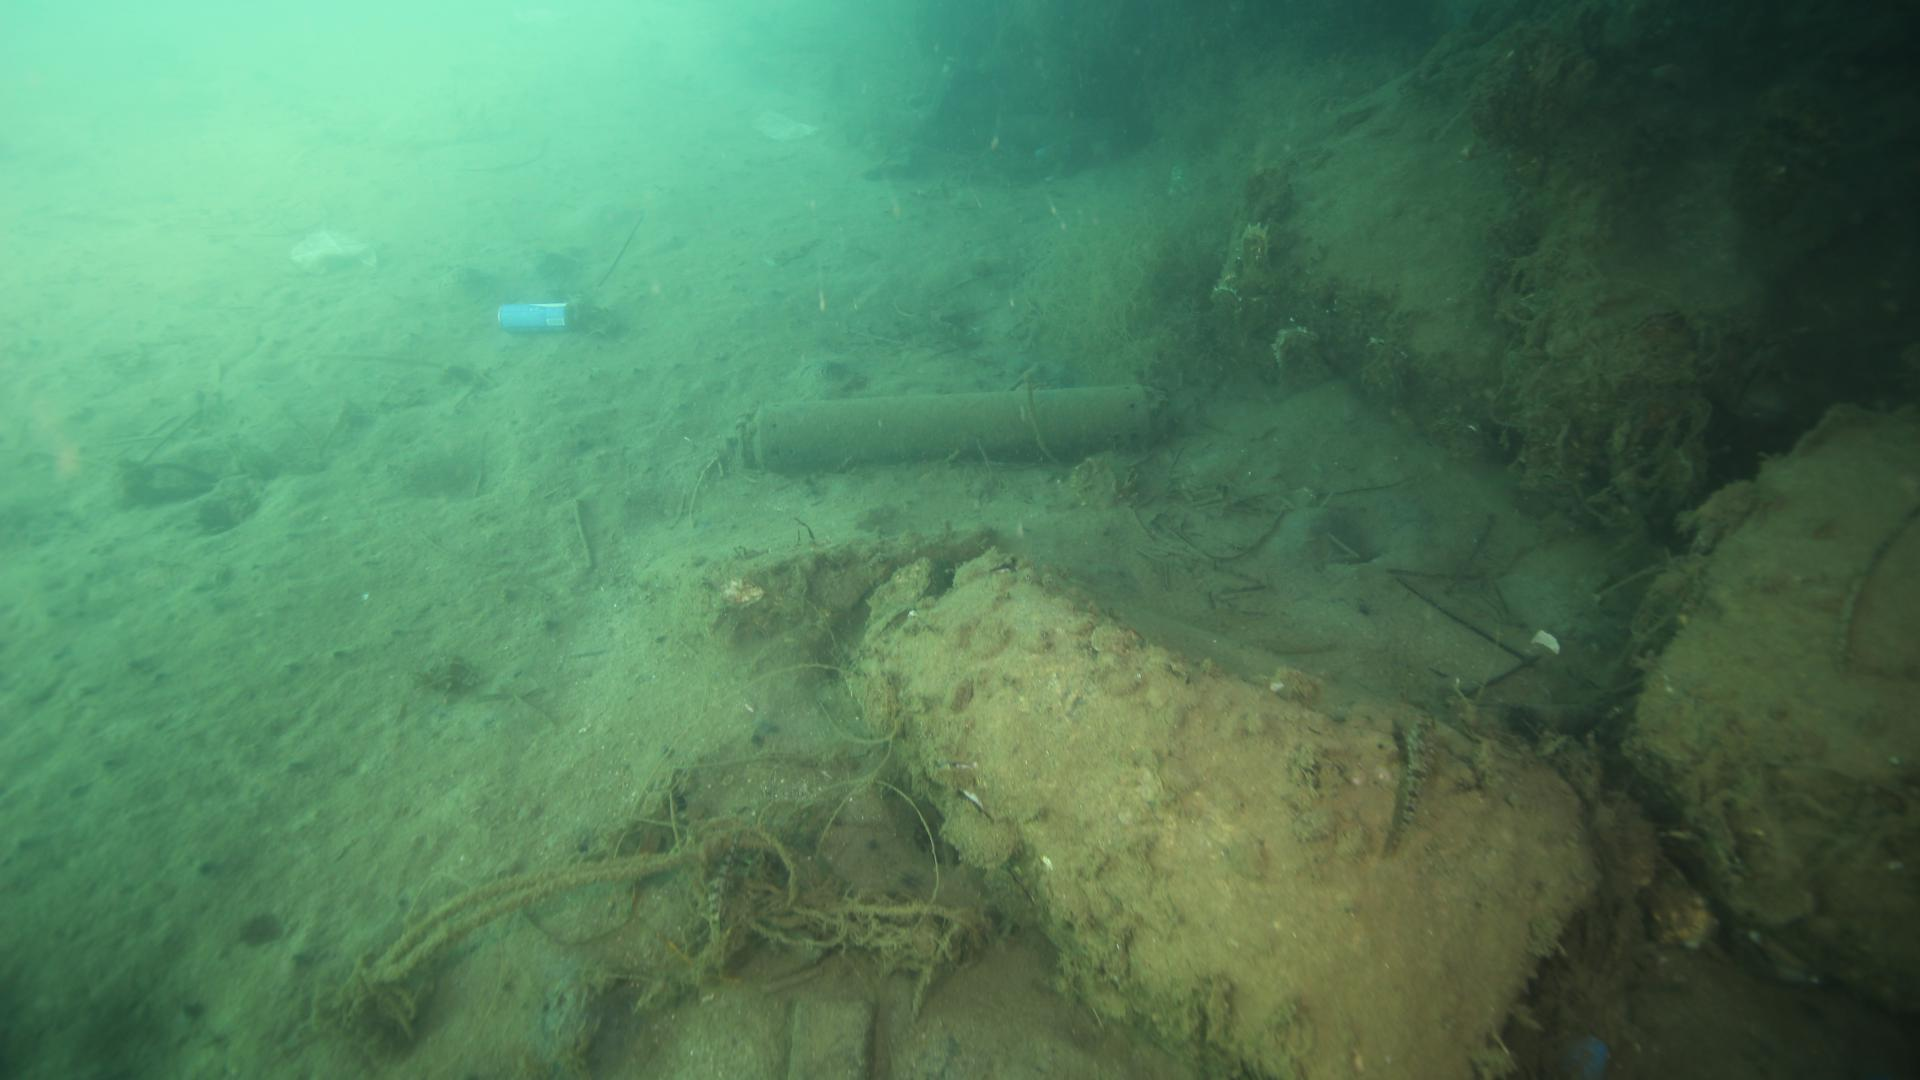eel fish trap: (738, 376, 1178, 471)
